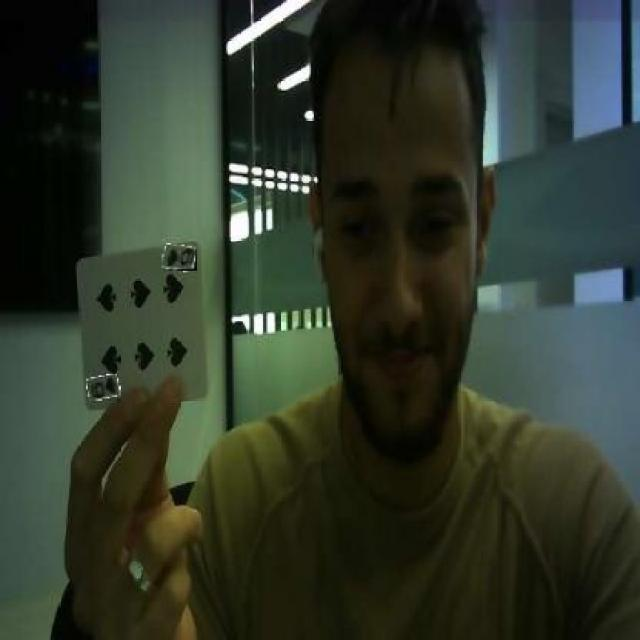6S: (161, 244, 197, 270), (88, 375, 119, 400)
